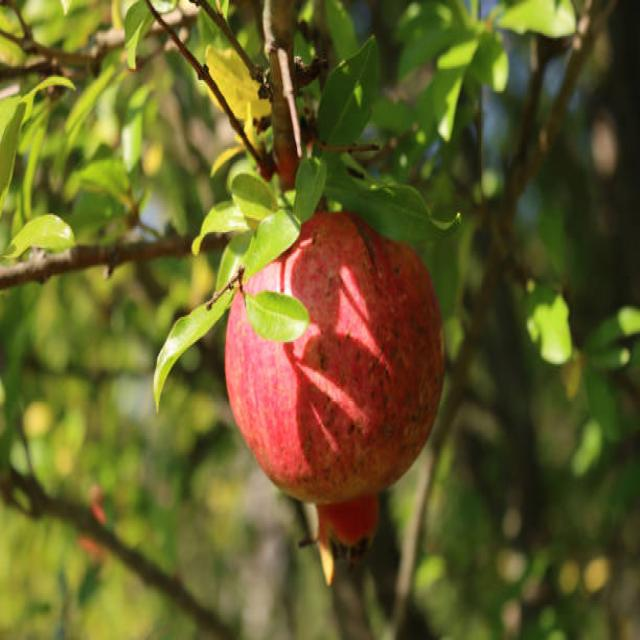Ripe: (221, 206, 447, 566)
